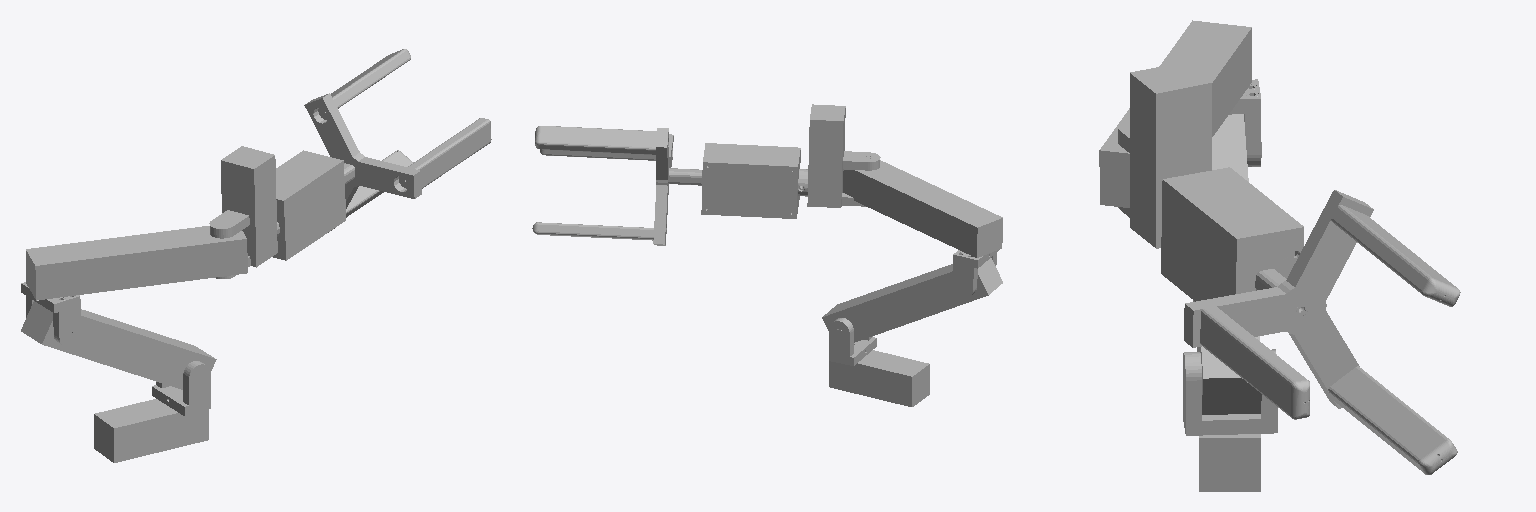
robot.urdf — 6DOFArm2.SLDASM:
<?xml version="1.0" encoding="utf-8"?>
<!-- This URDF was automatically created by SolidWorks to URDF Exporter! Originally created by [author] ([email redacted]) 
     Commit Version: 1.6.0-1-g15f4949  Build Version: 1.6.7594.29634
     For more information, please see http://wiki.ros.org/sw_urdf_exporter -->
<robot
  name="6DOFArm2.SLDASM">
  <link
    name="base_link">
    <inertial>
      <origin
        xyz="0.0548570072307152 0.09967210766993 0.0564133283380622"
        rpy="0 0 0" />
      <mass
        value="0.195948164313462" />
      <inertia
        ixx="5.4818408490663E-05"
        ixy="-5.13728177875136E-06"
        ixz="1.37361739472903E-08"
        iyy="0.00028132542818711"
        iyz="6.73753371510255E-09"
        izz="0.000268946195921621" />
    </inertial>
    <visual>
      <origin
        xyz="0 0 0"
        rpy="0 0 0" />
      <geometry>
        <mesh
          filename="package://6DOFArm2.SLDASM/meshes/base_link.STL" />
      </geometry>
      <material
        name="">
        <color
          rgba="0.752941176470588 0.752941176470588 0.752941176470588 1" />
      </material>
    </visual>
    <collision>
      <origin
        xyz="0 0 0"
        rpy="0 0 0" />
      <geometry>
        <mesh
          filename="package://6DOFArm2.SLDASM/meshes/base_link.STL" />
      </geometry>
    </collision>
  </link>
  <link
    name="ConnectingJoint1">
    <inertial>
      <origin
        xyz="-0.0015278914732432 0.0199929397826317 4.80530943714683E-05"
        rpy="0 0 0" />
      <mass
        value="0.0553894751386379" />
      <inertia
        ixx="1.47698235348991E-05"
        ixy="2.02524178578317E-08"
        ixz="1.55656523402504E-10"
        iyy="1.4621124539567E-05"
        iyz="-8.86193755830646E-10"
        izz="1.01366009285935E-05" />
    </inertial>
    <visual>
      <origin
        xyz="0 0 0"
        rpy="0 0 0" />
      <geometry>
        <mesh
          filename="package://6DOFArm2.SLDASM/meshes/ConnectingJoint1.STL" />
      </geometry>
      <material
        name="">
        <color
          rgba="0.752941176470588 0.752941176470588 0.752941176470588 1" />
      </material>
    </visual>
    <collision>
      <origin
        xyz="0 0 0"
        rpy="0 0 0" />
      <geometry>
        <mesh
          filename="package://6DOFArm2.SLDASM/meshes/ConnectingJoint1.STL" />
      </geometry>
    </collision>
  </link>
  <joint
    name="Motor1toConnectingJoint1"
    type="continuous">
    <origin
      xyz="0.0887809028148246 -0.0564216765198575 0.122546628190888"
      rpy="1.5707963267949 0 -3.07515924140171" />
    <parent
      link="base_link" />
    <child
      link="ConnectingJoint1" />
    <axis
      xyz="0 1 0" />
  </joint>
  <link
    name="Motor2">
    <inertial>
      <origin
        xyz="-0.0267787392048552 0.00401259941567604 -0.0107339797143436"
        rpy="0 0 0" />
      <mass
        value="0.195408857566317" />
      <inertia
        ixx="8.57618790245859E-05"
        ixy="4.54792290407814E-05"
        ixz="-6.32722444121944E-05"
        iyy="0.000262628332280333"
        iyz="8.46555820634659E-06"
        izz="0.000253149108438567" />
    </inertial>
    <visual>
      <origin
        xyz="0 0 0"
        rpy="0 0 0" />
      <geometry>
        <mesh
          filename="package://6DOFArm2.SLDASM/meshes/Motor2.STL" />
      </geometry>
      <material
        name="">
        <color
          rgba="0.752941176470588 0.752941176470588 0.752941176470588 1" />
      </material>
    </visual>
    <collision>
      <origin
        xyz="0 0 0"
        rpy="0 0 0" />
      <geometry>
        <mesh
          filename="package://6DOFArm2.SLDASM/meshes/Motor2.STL" />
      </geometry>
    </collision>
  </link>
  <joint
    name="ConnectingJoint1toMotor2"
    type="continuous">
    <origin
      xyz="0 0.05 0"
      rpy="2.37439642898994 -0.403414720505225 -2.57822794317156" />
    <parent
      link="ConnectingJoint1" />
    <child
      link="Motor2" />
    <axis
      xyz="0.392561231690883 0.638399795469819 -0.662073546154375" />
  </joint>
  <link
    name="Motor3">
    <inertial>
      <origin
        xyz="0.08147736782471 0.0809487228463004 0.121291120702989"
        rpy="0 0 0" />
      <mass
        value="0.195408857566646" />
      <inertia
        ixx="8.57618790243269E-05"
        ixy="4.54792290400661E-05"
        ixz="-6.32722444128958E-05"
        iyy="0.000262628332280215"
        iyz="8.46555820641004E-06"
        izz="0.000253149108438313" />
    </inertial>
    <visual>
      <origin
        xyz="0 0 0"
        rpy="0 0 0" />
      <geometry>
        <mesh
          filename="package://6DOFArm2.SLDASM/meshes/Motor3.STL" />
      </geometry>
      <material
        name="">
        <color
          rgba="0.752941176470588 0.752941176470588 0.752941176470588 1" />
      </material>
    </visual>
    <collision>
      <origin
        xyz="0 0 0"
        rpy="0 0 0" />
      <geometry>
        <mesh
          filename="package://6DOFArm2.SLDASM/meshes/Motor3.STL" />
      </geometry>
    </collision>
  </link>
  <joint
    name="Motor2to3"
    type="fixed">
    <origin
      xyz="-0.0551705170448238 -0.0841071167845083 -0.120159765482619"
      rpy="1.65449295176965 0.0706583598532589 -3.06476419994726" />
    <parent
      link="Motor2" />
    <child
      link="Motor3" />
    <axis
      xyz="0 0 0" />
  </joint>
  <link
    name="ConnectingJoint2">
    <inertial>
      <origin
        xyz="-0.0253657850640783 -0.0584274431526401 0.00485921441629675"
        rpy="0 0 0" />
      <mass
        value="0.251337639546098" />
      <inertia
        ixx="6.90585728176708E-05"
        ixy="-5.11792225801144E-06"
        ixz="1.48801232728862E-06"
        iyy="0.000295946552732483"
        iyz="1.27504026398015E-08"
        izz="0.0002796124560711" />
    </inertial>
    <visual>
      <origin
        xyz="0 0 0"
        rpy="0 0 0" />
      <geometry>
        <mesh
          filename="package://6DOFArm2.SLDASM/meshes/ConnectingJoint2.STL" />
      </geometry>
      <material
        name="">
        <color
          rgba="0.752941176470588 0.752941176470588 0.752941176470588 1" />
      </material>
    </visual>
    <collision>
      <origin
        xyz="0 0 0"
        rpy="0 0 0" />
      <geometry>
        <mesh
          filename="package://6DOFArm2.SLDASM/meshes/ConnectingJoint2.STL" />
      </geometry>
    </collision>
  </link>
  <joint
    name="Motor3toConnectingJoint2"
    type="continuous">
    <origin
      xyz="0.111394845889657 0.0709445462502501 0.134456786922524"
      rpy="-2.28397231692484 -0.161529601486166 -0.869772931040039" />
    <parent
      link="Motor3" />
    <child
      link="ConnectingJoint2" />
    <axis
      xyz="0.338077345014085 0 -0.941118328791989" />
  </joint>
  <link
    name="Motor4">
    <inertial>
      <origin
        xyz="0.0391248118718815 0.0585298350005093 0.102740842276401"
        rpy="0 0 0" />
      <mass
        value="0.19594816440746" />
      <inertia
        ixx="5.48184084937477E-05"
        ixy="-5.13728178169183E-06"
        ixz="1.37361745989079E-08"
        iyy="0.000281325428192916"
        iyz="6.73753216678069E-09"
        izz="0.00026894619593153" />
    </inertial>
    <visual>
      <origin
        xyz="0 0 0"
        rpy="0 0 0" />
      <geometry>
        <mesh
          filename="package://6DOFArm2.SLDASM/meshes/Motor4.STL" />
      </geometry>
      <material
        name="">
        <color
          rgba="0.752941176470588 0.752941176470588 0.752941176470588 1" />
      </material>
    </visual>
    <collision>
      <origin
        xyz="0 0 0"
        rpy="0 0 0" />
      <geometry>
        <mesh
          filename="package://6DOFArm2.SLDASM/meshes/Motor4.STL" />
      </geometry>
    </collision>
  </link>
  <joint
    name="ConnectingJoint2toMotor4"
    type="fixed">
    <origin
      xyz="-0.0716462339992732 -0.126404355523406 -0.0977795983024742"
      rpy="0 0 0" />
    <parent
      link="ConnectingJoint2" />
    <child
      link="Motor4" />
    <axis
      xyz="0 0 0" />
  </joint>
  <link
    name="Motor5">
    <inertial>
      <origin
        xyz="0.123992224994363 0.158474709285285 0.195694078194489"
        rpy="0 0 0" />
      <mass
        value="0.195413046606189" />
      <inertia
        ixx="5.98954240438613E-05"
        ixy="1.80722919459569E-05"
        ixz="2.85448851892142E-05"
        iyy="0.000278188929069171"
        iyz="-4.00400051754164E-06"
        izz="0.000263455572144834" />
    </inertial>
    <visual>
      <origin
        xyz="0 0 0"
        rpy="0 0 0" />
      <geometry>
        <mesh
          filename="package://6DOFArm2.SLDASM/meshes/Motor5.STL" />
      </geometry>
      <material
        name="">
        <color
          rgba="0.752941176470588 0.752941176470588 0.752941176470588 1" />
      </material>
    </visual>
    <collision>
      <origin
        xyz="0 0 0"
        rpy="0 0 0" />
      <geometry>
        <mesh
          filename="package://6DOFArm2.SLDASM/meshes/Motor5.STL" />
      </geometry>
    </collision>
  </link>
  <joint
    name="Motor4to5"
    type="fixed">
    <origin
      xyz="-0.0177751022000152 0.201762550035965 -0.126370476575955"
      rpy="0.120585955814157 -0.146063575386152 -3.05111596845932" />
    <parent
      link="Motor4" />
    <child
      link="Motor5" />
    <axis
      xyz="0 0 0" />
  </joint>
  <link
    name="WristJoint">
    <inertial>
      <origin
        xyz="6.90477607481754E-06 -0.0489293232093292 0.0539202970953841"
        rpy="0 0 0" />
      <mass
        value="0.222859009390027" />
      <inertia
        ixx="0.000273908485325702"
        ixy="7.81636578827864E-09"
        ixz="1.38918930816556E-08"
        iyy="0.000283731621544484"
        iyz="-5.13816799795342E-06"
        izz="6.15478919576468E-05" />
    </inertial>
    <visual>
      <origin
        xyz="0 0 0"
        rpy="0 0 0" />
      <geometry>
        <mesh
          filename="package://6DOFArm2.SLDASM/meshes/WristJoint.STL" />
      </geometry>
      <material
        name="">
        <color
          rgba="0.752941176470588 0.752941176470588 0.752941176470588 1" />
      </material>
    </visual>
    <collision>
      <origin
        xyz="0 0 0"
        rpy="0 0 0" />
      <geometry>
        <mesh
          filename="package://6DOFArm2.SLDASM/meshes/WristJoint.STL" />
      </geometry>
    </collision>
  </link>
  <joint
    name="Motor5toWristJoint"
    type="continuous">
    <origin
      xyz="0.154904519128974 0.126056555008031 0.195050023277609"
      rpy="1.74405812139122 0.690938464641752 -3.12083389862842" />
    <parent
      link="Motor5" />
    <child
      link="WristJoint" />
    <axis
      xyz="0 0 1" />
  </joint>
  <link
    name="EndEffector">
    <inertial>
      <origin
        xyz="1.20277926218826E-06 0.00191045129129286 -0.0792395605276069"
        rpy="0 0 0" />
      <mass
        value="0.533035552138256" />
      <inertia
        ixx="0.000821014520742311"
        ixy="-1.94437806560077E-09"
        ixz="1.01720094242614E-08"
        iyy="0.000880978746504214"
        iyz="1.80223650642014E-06"
        izz="0.00047211863299026" />
    </inertial>
    <visual>
      <origin
        xyz="0 0 0"
        rpy="0 0 0" />
      <geometry>
        <mesh
          filename="package://6DOFArm2.SLDASM/meshes/EndEffector.STL" />
      </geometry>
      <material
        name="">
        <color
          rgba="0.752941176470588 0.752941176470588 0.752941176470588 1" />
      </material>
    </visual>
    <collision>
      <origin
        xyz="0 0 0"
        rpy="0 0 0" />
      <geometry>
        <mesh
          filename="package://6DOFArm2.SLDASM/meshes/EndEffector.STL" />
      </geometry>
    </collision>
  </link>
  <joint
    name="WristToEndEffector"
    type="continuous">
    <origin
      xyz="0 -0.14265802073195 0.0229949229091911"
      rpy="-1.57079632679485 -1.5505099024677 0" />
    <parent
      link="WristJoint" />
    <child
      link="EndEffector" />
    <axis
      xyz="0 0 1" />
  </joint>
</robot>

--- Render facts (derived) ---
Views: 3 orthographic renders of the robot side by side, from view 1: azimuth 30°, elevation 25°; view 2: azimuth 150°, elevation 25°; view 3: azimuth 270°, elevation 25°.
Robot: 6DOFArm2.SLDASM — 9 links, 8 joints (5 continuous, 3 fixed); root link base_link; default pose: every joint at zero.
Links seen in each view (by area): view 1: EndEffector, ConnectingJoint2, WristJoint, Motor5, base_link, Motor3, Motor2, ConnectingJoint1; view 2: EndEffector, WristJoint, base_link, ConnectingJoint2, Motor5, Motor3, Motor2, Motor4, ConnectingJoint1; view 3: EndEffector, WristJoint, ConnectingJoint2, base_link, ConnectingJoint1, Motor2, Motor5, Motor3, Motor4.
Link boxes in pixels (<box>): EndEffector: <box>273,49,491,260</box>; ConnectingJoint2: <box>21,236,141,346</box>; WristJoint: <box>209,146,277,278</box>; Motor5: <box>132,222,247,286</box>; base_link: <box>94,391,208,462</box>; Motor3: <box>21,301,136,369</box>; Motor2: <box>116,320,216,389</box>; ConnectingJoint1: <box>152,361,210,415</box>; EndEffector: <box>532,126,807,245</box>; WristJoint: <box>807,104,880,207</box>; base_link: <box>829,345,929,406</box>; ConnectingJoint2: <box>910,187,1002,298</box>; Motor5: <box>843,156,935,226</box>; Motor3: <box>898,258,1002,321</box>; Motor2: <box>822,278,912,342</box>; Motor4: <box>910,186,1001,257</box>; ConnectingJoint1: <box>829,318,876,365</box>; EndEffector: <box>1161,167,1460,474</box>; WristJoint: <box>1118,62,1211,248</box>; ConnectingJoint2: <box>1159,20,1261,166</box>; base_link: <box>1199,434,1260,491</box>; ConnectingJoint1: <box>1183,349,1277,435</box>; Motor2: <box>1184,300,1261,414</box>; Motor5: <box>1099,108,1129,207</box>; Motor3: <box>1212,114,1248,181</box>; Motor4: <box>1169,23,1251,135</box>.
Size in the robot's own frame: 0.6475 by 0.2669 by 0.357 metres.
9 mesh visuals loaded from 9 distinct referenced files (9 binary STL).